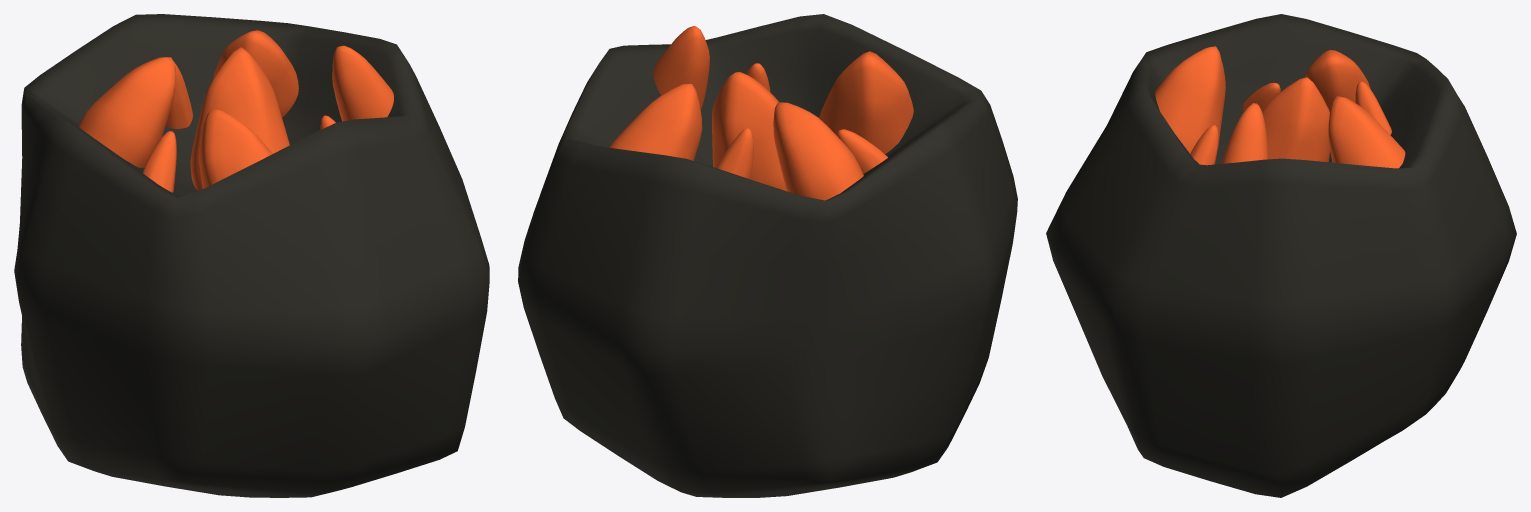
Rendered from GemRock.obj.
3 renders of one model, left to right at view 1: azimuth 30°, elevation 25°; view 2: azimuth 150°, elevation 25°; view 3: azimuth 270°, elevation 25°, orthographic. The views are drawn at different scales.
Visible parts, largest first — view 1: Gemstone_Cube.004; view 2: Gemstone_Cube.004; view 3: Gemstone_Cube.004.
Boxes of the visible parts, x1,y1,x2,y2 form: Gemstone_Cube.004: [14, 14, 489, 497]; Gemstone_Cube.004: [518, 14, 1017, 497]; Gemstone_Cube.004: [1046, 14, 1516, 497].
Size of the model in its own units: 1.47 by 1.37 by 1.52.
